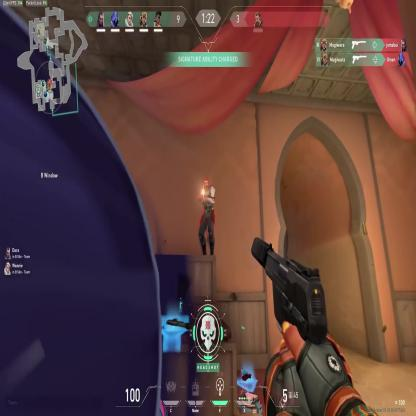enemy: (198, 176, 216, 258)
enemy_head: (204, 180, 209, 192)
